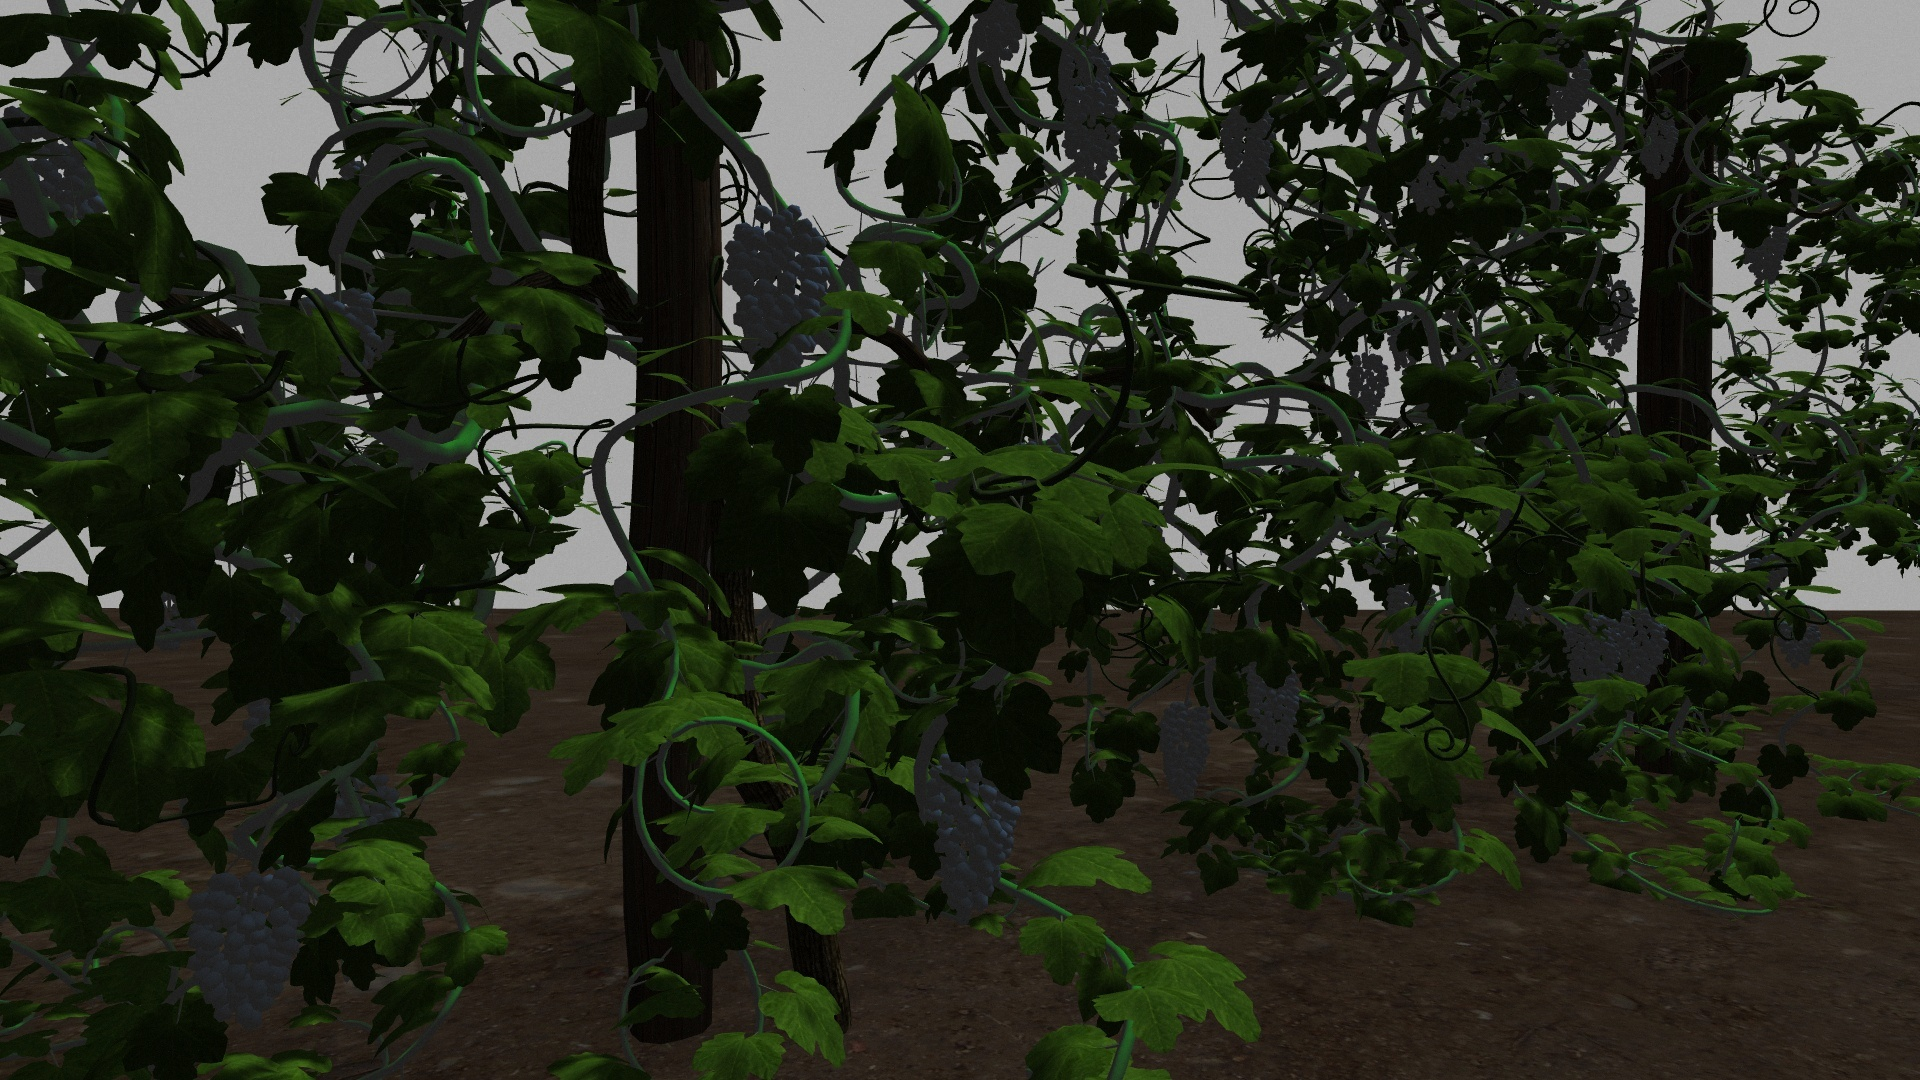grape: (185, 861, 315, 1025), (724, 200, 832, 389), (916, 756, 1021, 928), (1056, 38, 1125, 185), (1217, 99, 1280, 206), (1155, 698, 1218, 800), (1246, 659, 1304, 760), (1561, 611, 1622, 698), (1615, 601, 1669, 691), (1544, 36, 1593, 128), (1346, 349, 1390, 425), (1636, 105, 1680, 181), (1745, 214, 1789, 285), (1598, 280, 1638, 357), (1780, 607, 1825, 670)
